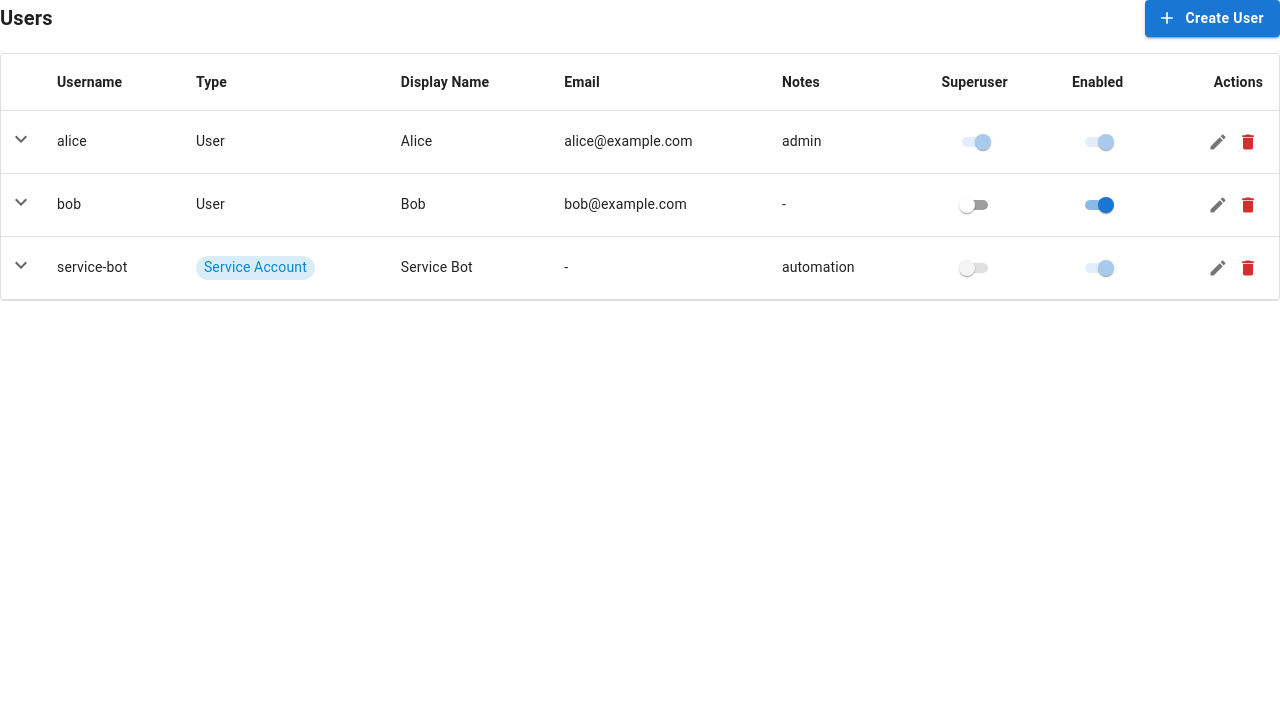
AdminUsers › Create user dialog › disables Create when the password is non-empty but below 12 chars
Check: the text "alice" is shown, box [41,110,180,173]
Click the button "Create User" at (1213, 18), box [1146,0,1279,36]
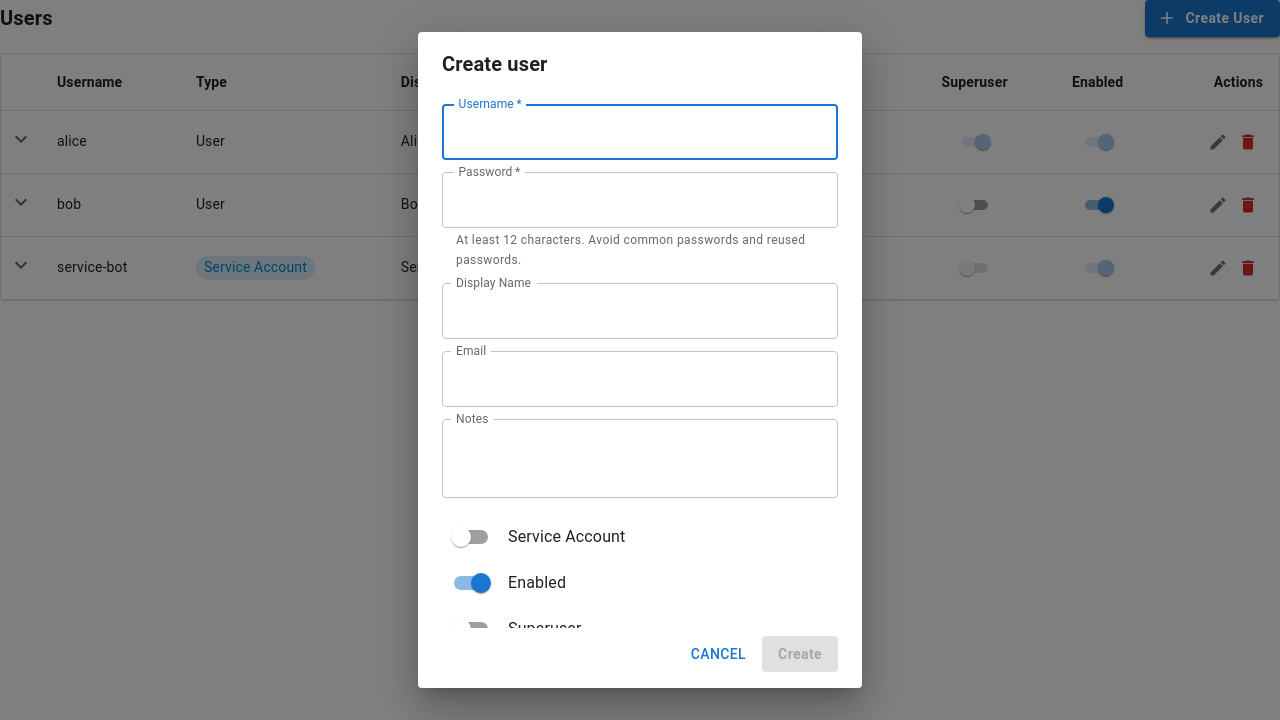
Type "charlie" into the field labelled "Username *" at (640, 132), box [442,104,838,160]
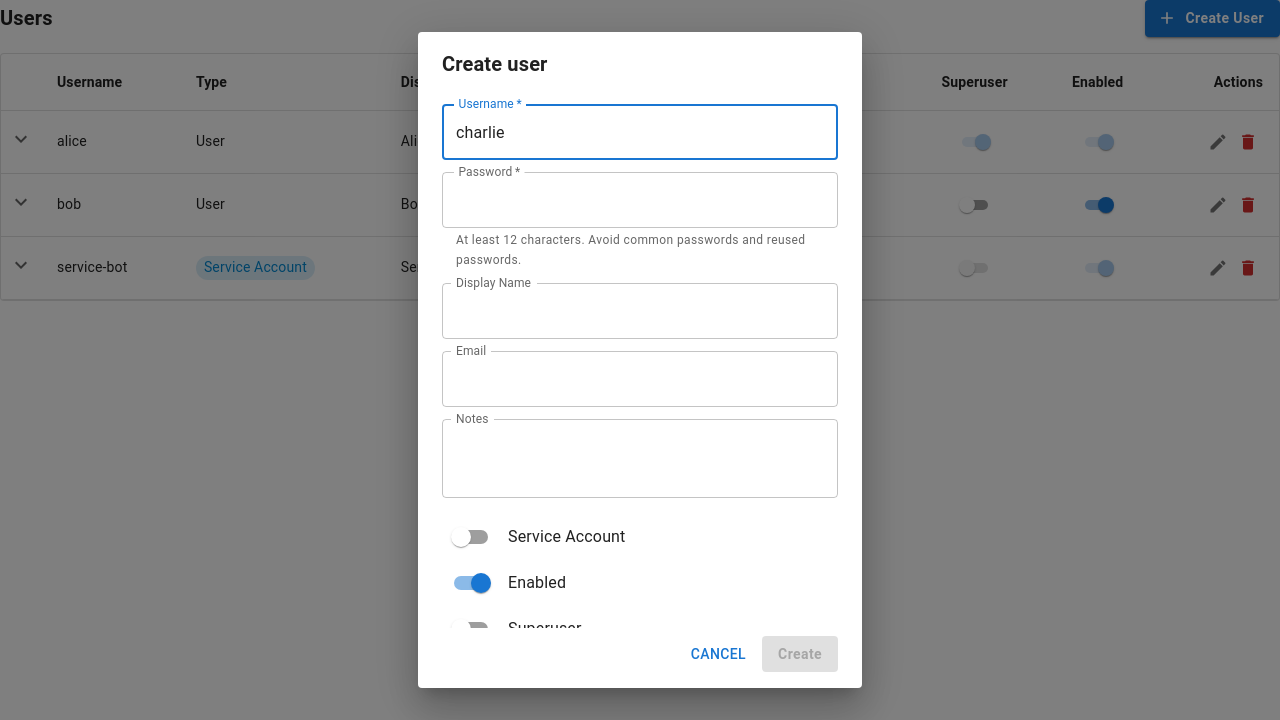
Type "short" into the password field labelled "Password *" at (640, 200), box [442,172,838,228]
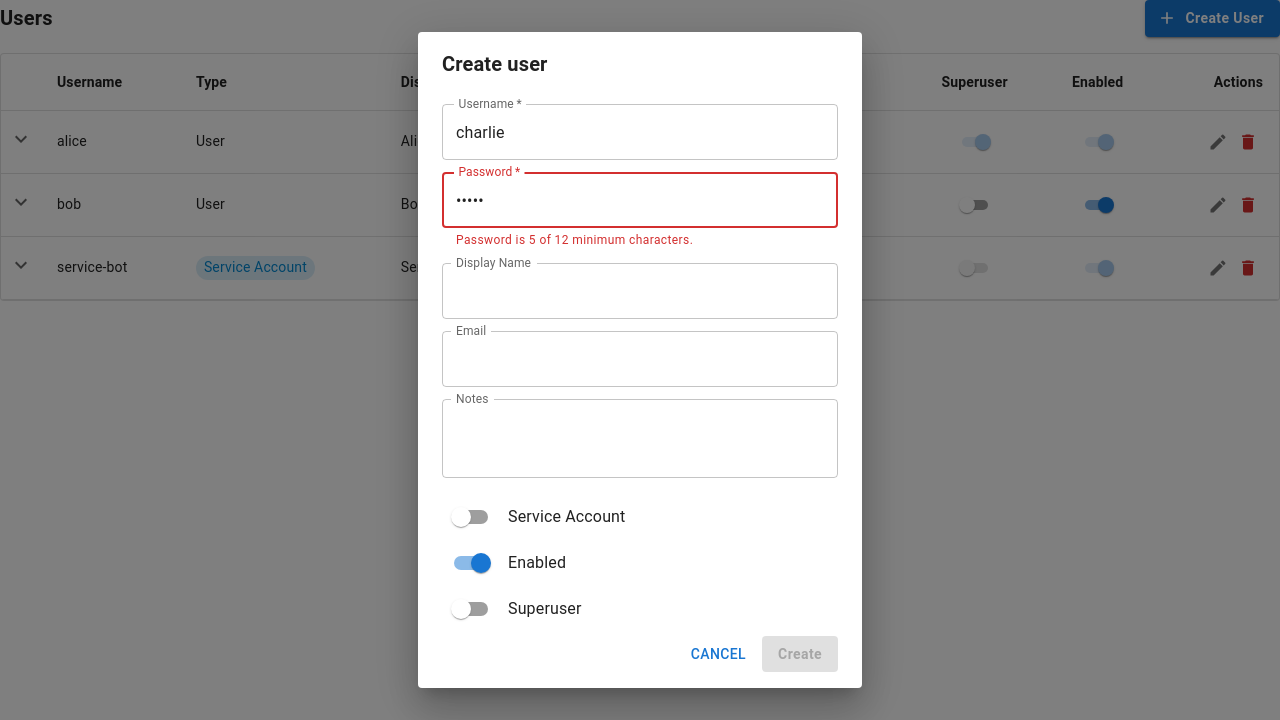
Check: the button "Create" is disabled, box [762,636,838,672]
Check: the text "Password is 5 of 12 minimum characters." is shown, box [456,233,693,247]
